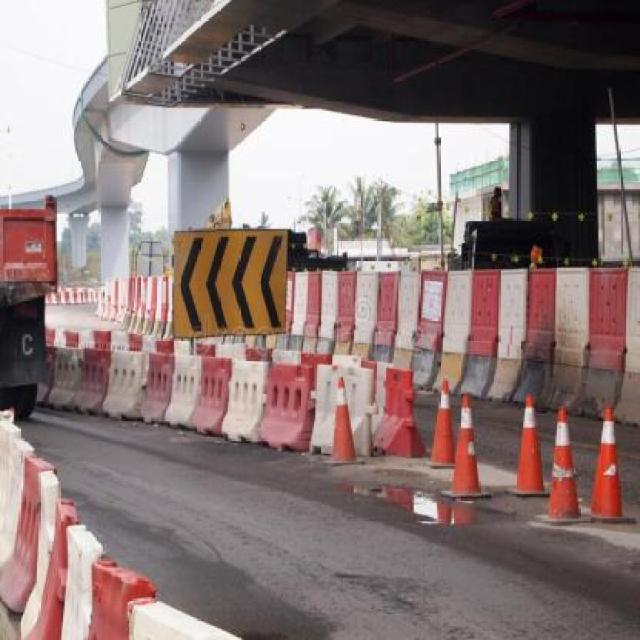fallen_object: (0, 410, 229, 640), (394, 266, 640, 421), (122, 336, 402, 453), (510, 376, 632, 524), (417, 356, 506, 504), (290, 260, 420, 361), (35, 316, 133, 420), (302, 365, 371, 464), (92, 265, 174, 328), (47, 280, 93, 307)
